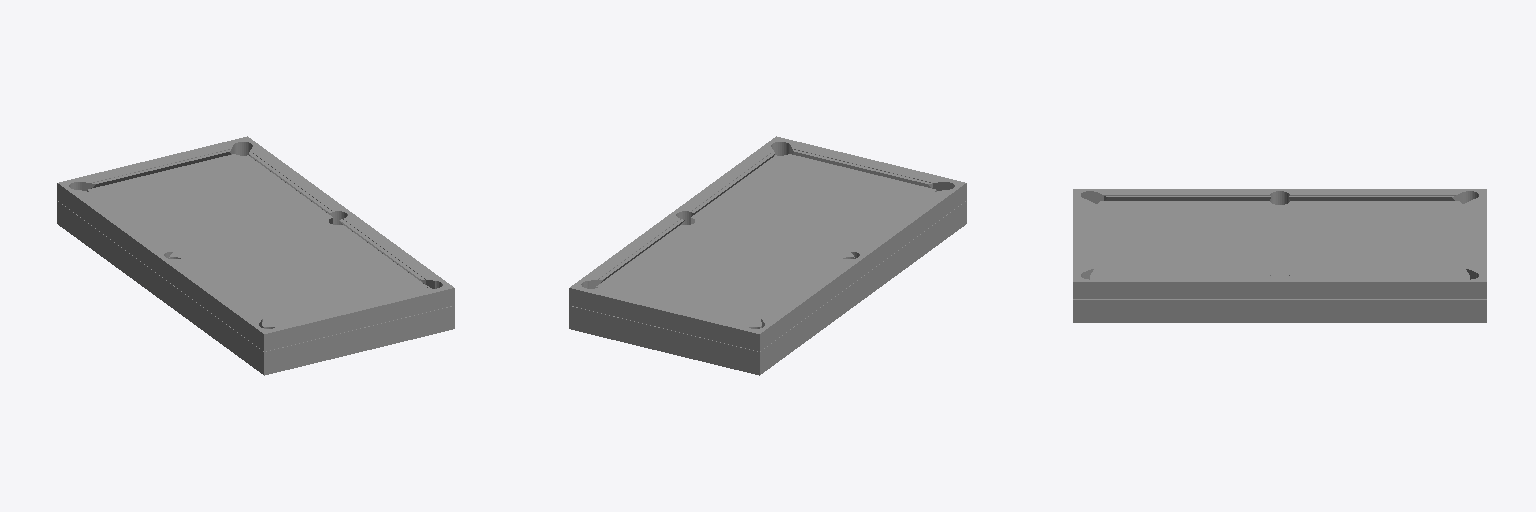
File: PoolTable.obj
3 renders of one model, left to right at view 1: azimuth 30°, elevation 25°; view 2: azimuth 150°, elevation 25°; view 3: azimuth 270°, elevation 25°, orthographic.
Visible parts, largest first — view 1: BottomTable_Cube, outside_Cube.006, Bumper_Cube.013; view 2: BottomTable_Cube, outside_Cube.006, Bumper_Cube.013; view 3: BottomTable_Cube, outside_Cube.006, Bumper_Cube.013.
Part boxes in pixels (x1,y1,x2,y2): BottomTable_Cube: (87, 154, 427, 328); outside_Cube.006: (57, 136, 454, 375); Bumper_Cube.013: (88, 149, 425, 324); BottomTable_Cube: (596, 154, 936, 328); outside_Cube.006: (569, 136, 966, 375); Bumper_Cube.013: (598, 149, 935, 321); BottomTable_Cube: (1090, 201, 1469, 279); outside_Cube.006: (1073, 189, 1486, 322); Bumper_Cube.013: (1090, 196, 1469, 275).
Size of the model in its own units: 8.5 by 1.76 by 16.